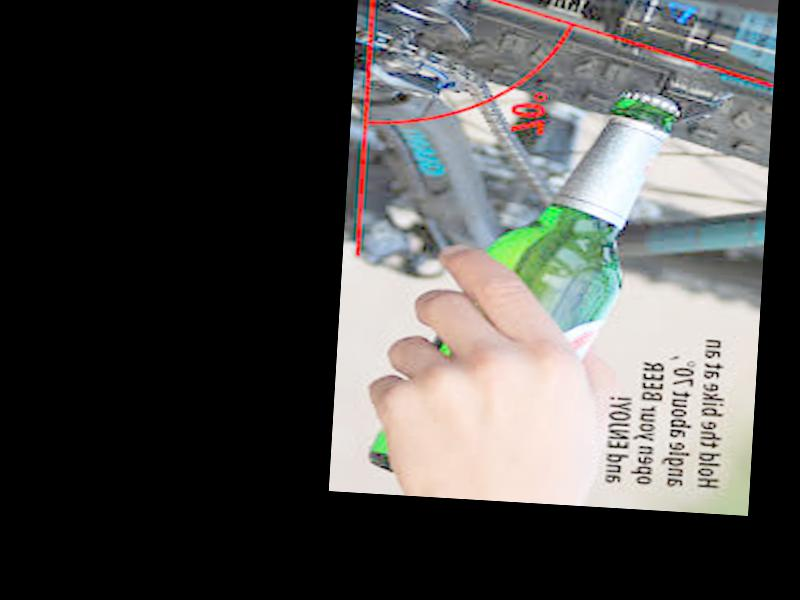Beer: (367, 71, 680, 489)
